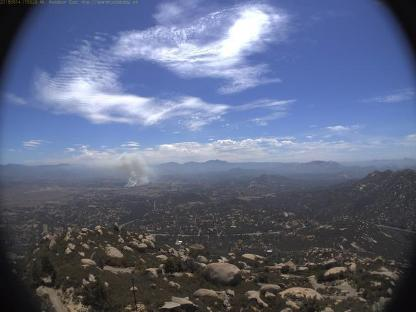smoke: (115, 150, 159, 189)
